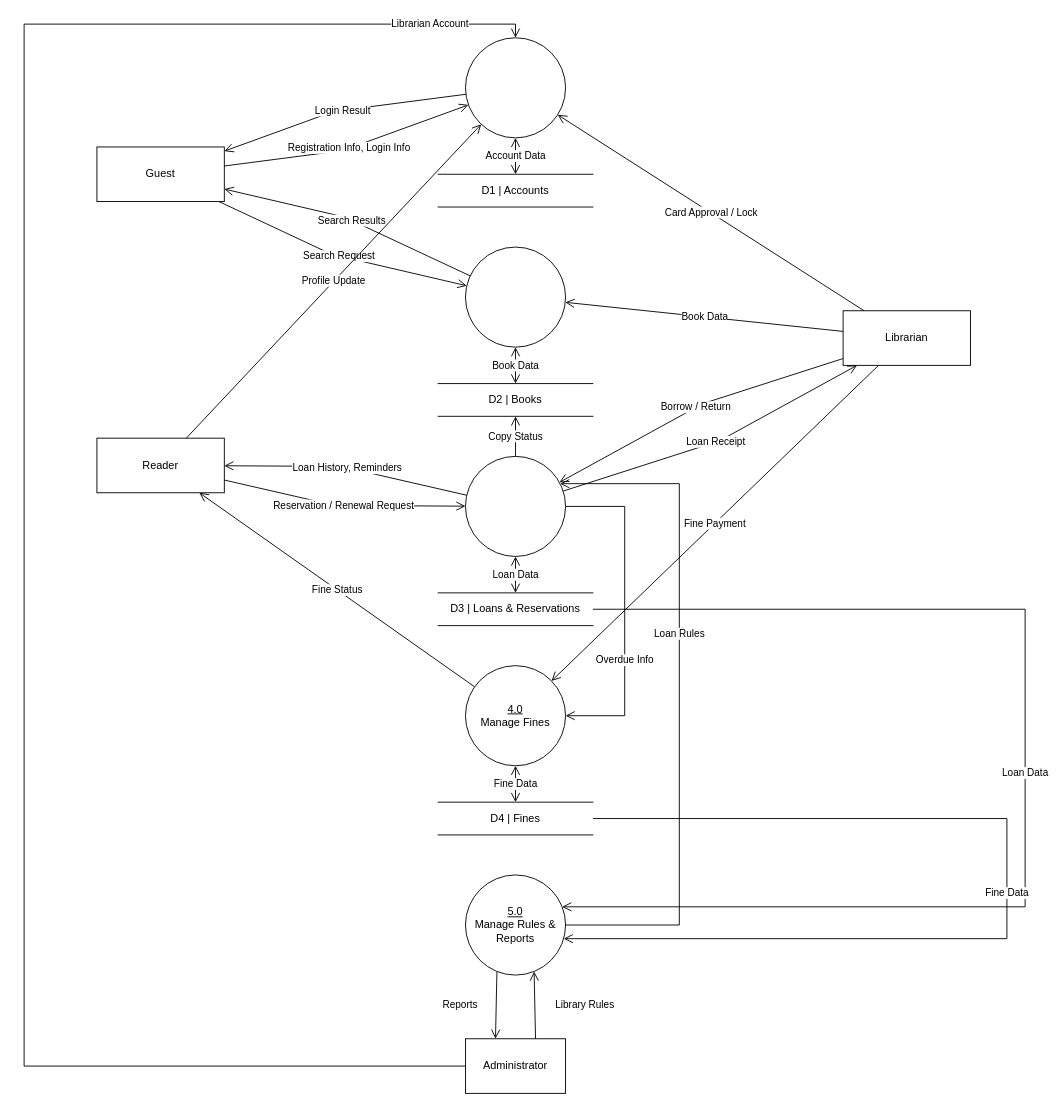
The diagram is 1064 pixels wide and 1109 high, and some of its shapes have lost their labels. The box of each missing label's shape, as (x1, y1, x2, y2) in pixels:
1.0 Manage Accounts: (465, 37, 566, 138)
2.0 Manage Books: (465, 246, 566, 347)
3.0 Borrow & Return: (465, 455, 566, 556)
